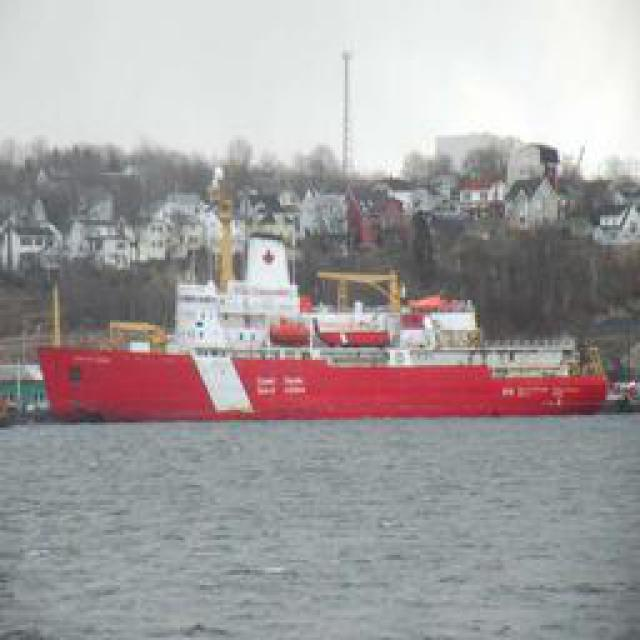Ship: (32, 315, 622, 425)
